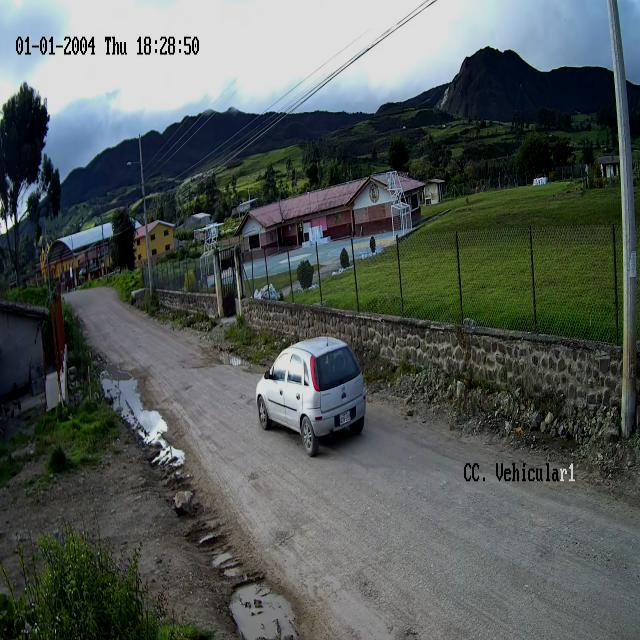SED: (255, 336, 367, 455)
